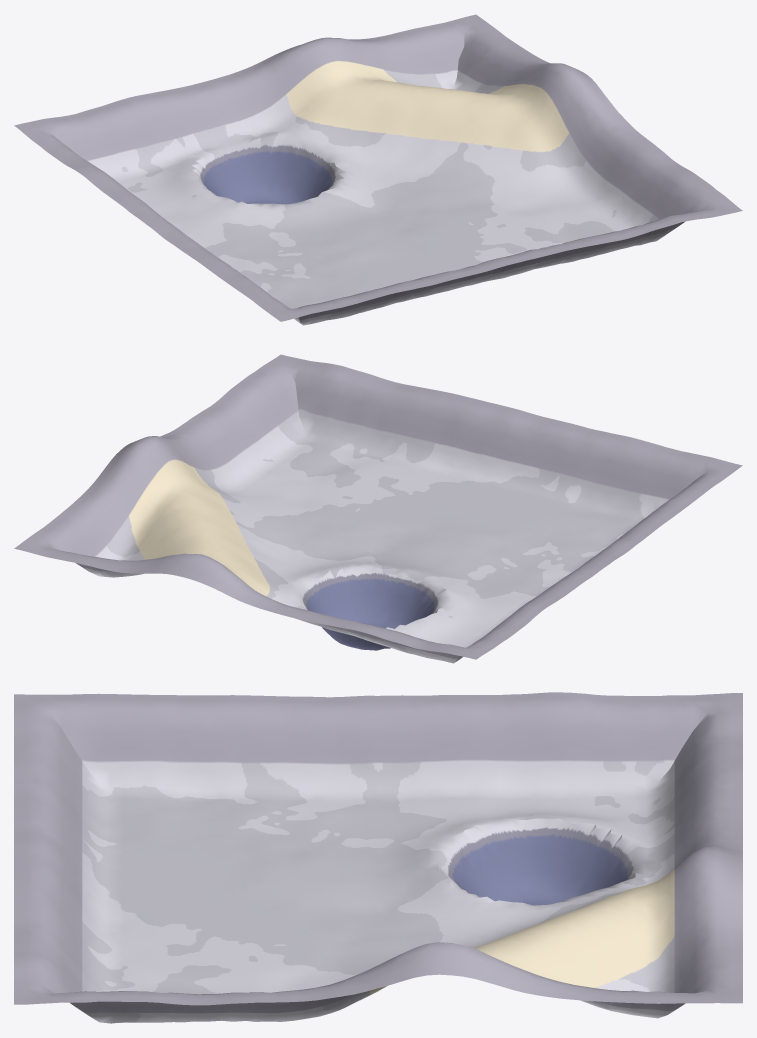
The model's file is Terreno.fbx.
3 renders of one model, top to bottom at view 1: azimuth 30°, elevation 25°; view 2: azimuth 150°, elevation 25°; view 3: azimuth 270°, elevation 25°, orthographic. The views are drawn at different scales.
Visible parts, largest first — view 1: Terreno; view 2: Terreno; view 3: Terreno.
Part boxes in pixels (x1=…): Terreno: x1=14, y1=14, x2=742, y2=325; Terreno: x1=14, y1=354, x2=742, y2=663; Terreno: x1=14, y1=692, x2=742, y2=1023.
Size of the model in its own units: 90 by 20.09 by 90.
Materials: 1 (1 with a texture image).
